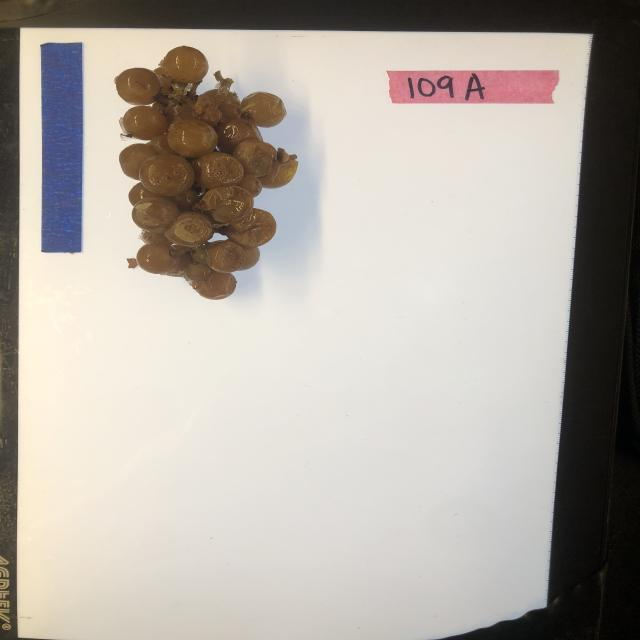grape_cluster: (115, 45, 301, 302)
index: (386, 70, 560, 104)
measure_label: (39, 40, 86, 254)
